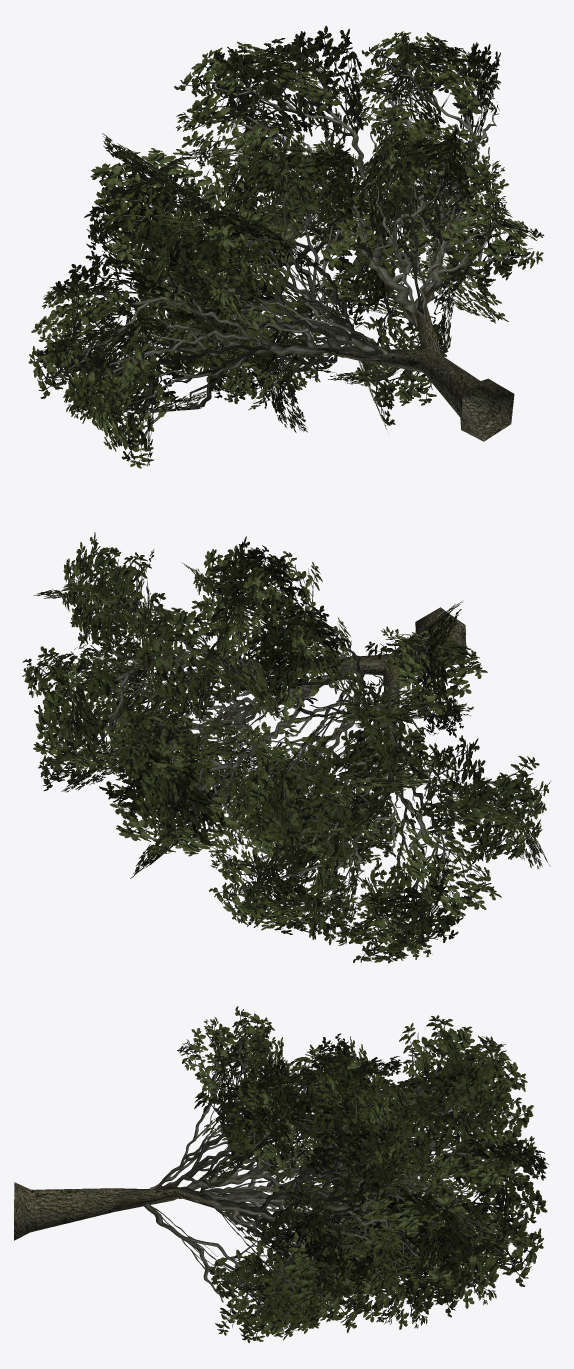
File: MEP_Oak_02.fbx
3 views of the same model, one above another, from view 1: azimuth 30°, elevation 25°; view 2: azimuth 150°, elevation 25°; view 3: azimuth 270°, elevation 25° (orthographic). The views are drawn at different scales.
Visible parts, largest first — view 1: MEP_Oak_Leafs_02, MEP_Oak_Trunk_02; view 2: MEP_Oak_Leafs_02, MEP_Oak_Trunk_02; view 3: MEP_Oak_Leafs_02, MEP_Oak_Trunk_02.
Part boxes in pixels (x1=…): MEP_Oak_Leafs_02: x1=28, y1=25, x2=544, y2=468; MEP_Oak_Trunk_02: x1=297, y1=266, x2=514, y2=441; MEP_Oak_Leafs_02: x1=22, y1=532, x2=550, y2=963; MEP_Oak_Trunk_02: x1=270, y1=607, x2=466, y2=735; MEP_Oak_Leafs_02: x1=143, y1=1006, x2=548, y2=1343; MEP_Oak_Trunk_02: x1=14, y1=1182, x2=250, y2=1240.
Bounding box in the file's own units: 16.65 × 11.73 × 16.42.
